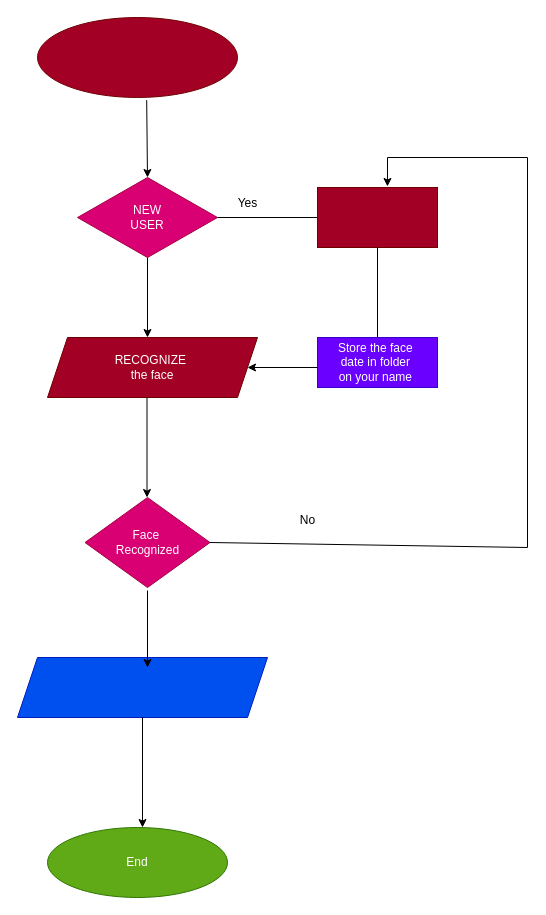
The diagram is 546 pixels wide and 915 high, and some of its shapes have lost their labels. Each missing label, with the centre of its shape:
"Give Your photography" belongs at point (377, 217).
"START" belongs at point (137, 57).
"Stored in CSV file with Registration Number&Date" belongs at point (142, 687).
